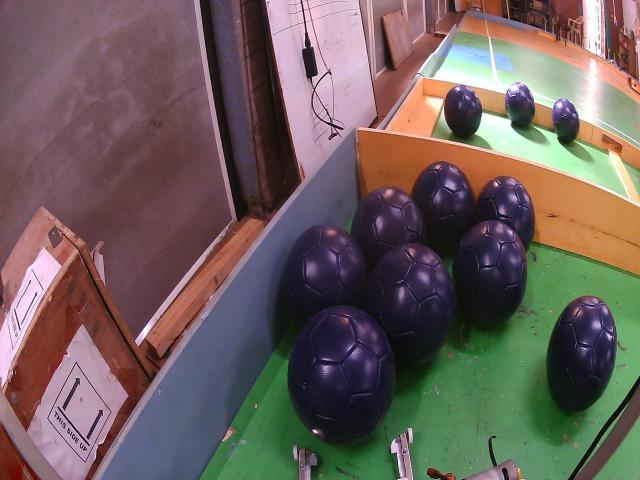kaalyya: (288, 307, 395, 443), (365, 243, 456, 365), (546, 295, 618, 412), (282, 225, 366, 323), (452, 220, 528, 328), (351, 187, 426, 270), (411, 162, 474, 255), (474, 177, 535, 248), (444, 85, 482, 138), (505, 82, 535, 128), (552, 98, 580, 143)
